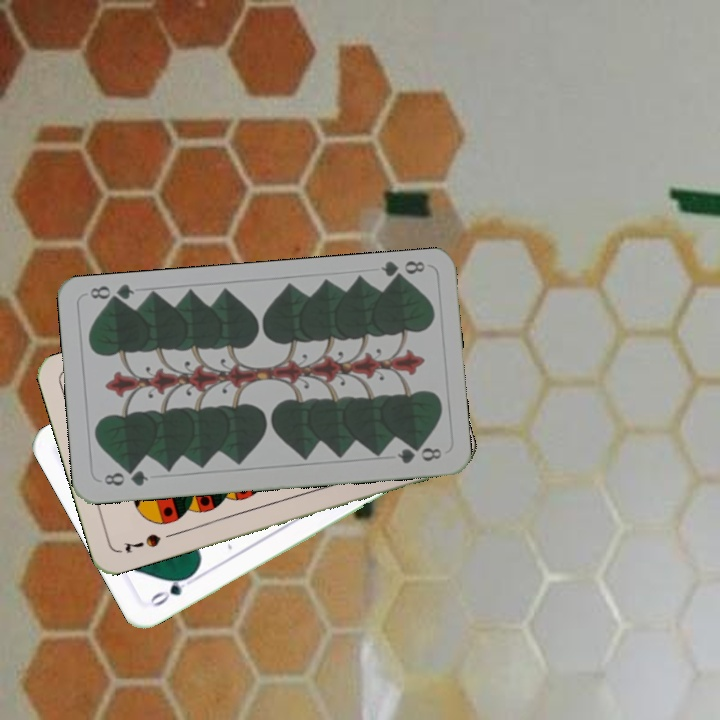G8: (377, 256, 427, 286), (100, 465, 151, 489)
GO: (146, 569, 200, 610)
S7: (119, 529, 163, 555)
